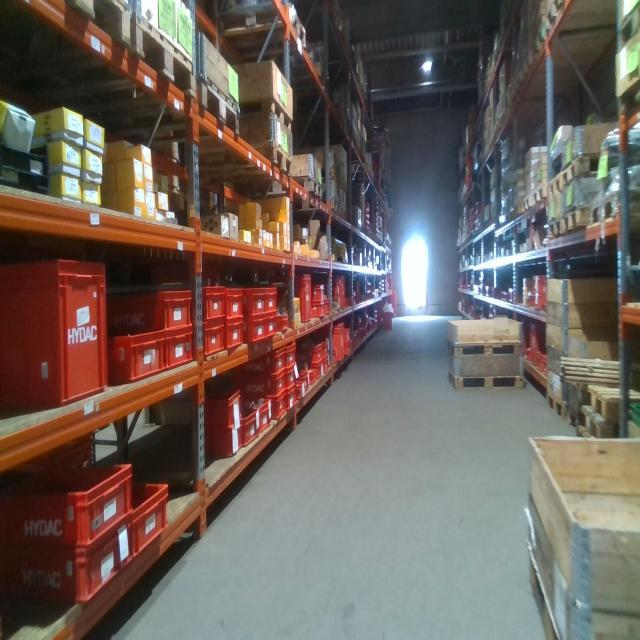pallet: (35, 8, 202, 112), (113, 77, 242, 152), (4, 5, 134, 63), (209, 4, 309, 59), (170, 149, 291, 188), (524, 553, 567, 639), (252, 176, 324, 211), (563, 149, 620, 187), (587, 191, 639, 230), (239, 96, 296, 131), (584, 380, 637, 417), (446, 372, 524, 397), (447, 338, 525, 360), (572, 407, 616, 445), (543, 1, 569, 33), (564, 204, 586, 237), (547, 389, 567, 425), (547, 215, 568, 246), (544, 170, 566, 199), (531, 27, 545, 68), (531, 183, 548, 212), (508, 75, 519, 119), (520, 53, 532, 90), (517, 194, 532, 216), (499, 109, 508, 135), (488, 124, 497, 150)
small_load_carrier: (3, 258, 114, 435), (2, 517, 135, 611), (1, 459, 134, 552), (117, 475, 171, 558), (111, 284, 198, 335), (113, 328, 166, 381), (198, 384, 243, 430), (200, 420, 247, 459), (164, 326, 195, 381), (233, 347, 284, 379), (240, 371, 289, 401), (285, 274, 314, 323), (247, 396, 277, 435), (202, 319, 228, 360), (199, 284, 227, 322), (241, 403, 264, 447), (223, 285, 245, 325), (241, 284, 267, 317), (325, 323, 345, 365), (293, 342, 323, 369), (224, 319, 246, 354), (247, 316, 269, 348), (528, 321, 541, 368), (269, 391, 288, 422), (264, 284, 282, 312), (338, 277, 349, 319), (539, 273, 549, 310), (294, 369, 309, 390), (284, 344, 296, 369), (277, 313, 291, 334), (294, 381, 305, 407), (264, 318, 277, 339), (312, 298, 325, 319), (287, 388, 298, 412), (312, 283, 325, 302), (351, 279, 361, 301), (287, 369, 297, 390), (307, 369, 317, 389), (382, 311, 392, 330), (321, 338, 329, 361), (342, 327, 352, 345), (532, 276, 541, 296), (325, 299, 334, 318), (531, 296, 541, 311), (343, 343, 352, 358), (329, 277, 340, 289), (543, 356, 550, 374), (332, 288, 340, 303), (321, 358, 328, 375), (535, 350, 540, 373), (317, 365, 322, 381)
